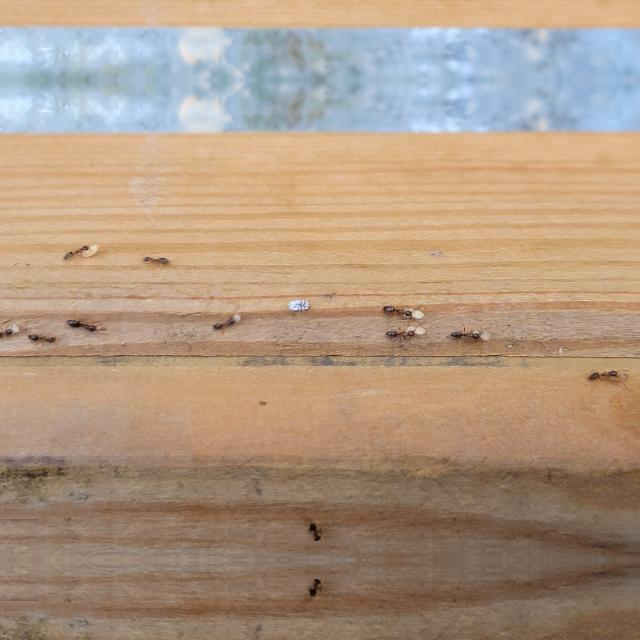Tapinoma: (62, 317, 101, 335), (379, 302, 416, 320), (584, 366, 622, 382), (59, 242, 92, 260), (138, 250, 174, 266), (210, 316, 242, 334), (28, 329, 58, 345), (384, 327, 418, 341), (448, 328, 482, 342), (306, 520, 324, 542), (306, 578, 324, 600), (0, 322, 16, 344)
